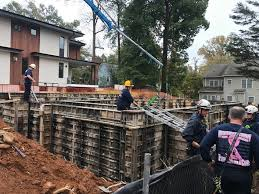hard hat: (196, 99, 212, 110), (243, 105, 259, 113), (124, 79, 134, 86), (29, 63, 37, 68)
